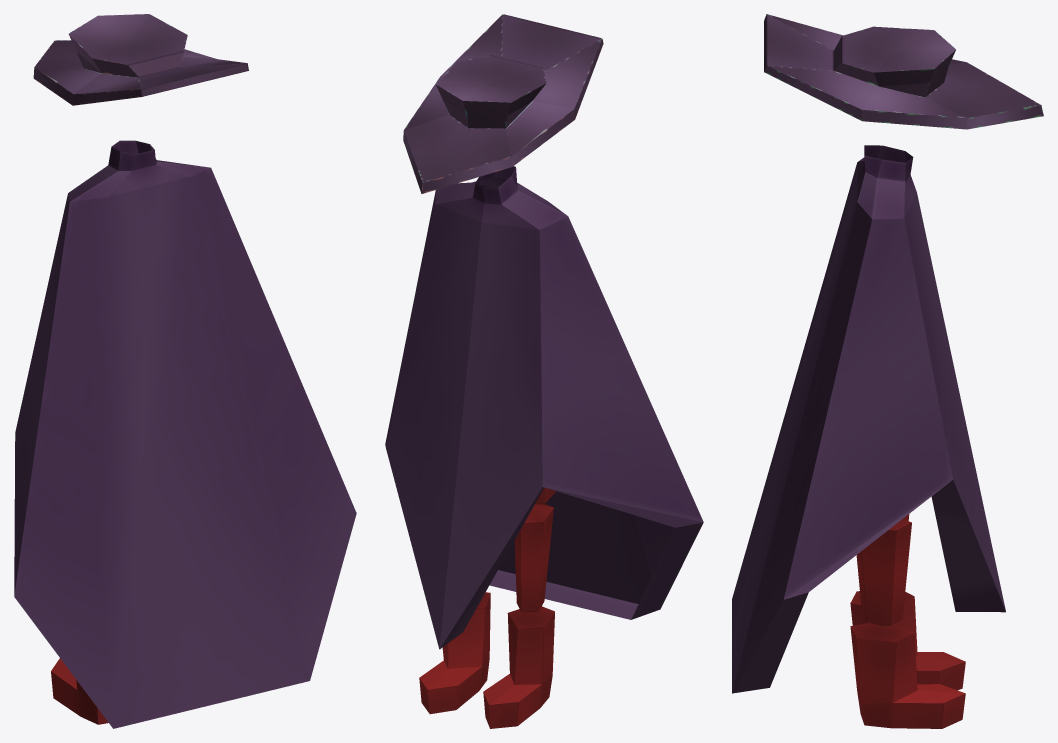
Rendered from insquisitor.fbx.
The picture shows the model from 3 angles, left to right: view 1: azimuth 30°, elevation 25°; view 2: azimuth 150°, elevation 25°; view 3: azimuth 270°, elevation 25°; orthographic projection. The views are drawn at different scales.
Parts seen in each view (by area): view 1: Torso_U, head, Leg2_L; view 2: Torso_U, head, Leg2_L, Leg2_R, Leg1_L; view 3: Torso_U, head, Leg2_R, Leg1_R, Leg2_L.
Boxes of the visible parts, bbox=[...] form: Torso_U: bbox=[14, 140, 356, 728]; head: bbox=[33, 14, 248, 105]; Leg2_L: bbox=[51, 658, 108, 724]; Torso_U: bbox=[385, 166, 703, 649]; head: bbox=[403, 14, 603, 193]; Leg2_L: bbox=[483, 606, 554, 728]; Leg2_R: bbox=[419, 592, 490, 714]; Leg1_L: bbox=[514, 503, 553, 612]; Torso_U: bbox=[732, 145, 1005, 693]; head: bbox=[764, 14, 1043, 129]; Leg2_R: bbox=[850, 623, 965, 728]; Leg1_R: bbox=[856, 519, 911, 626]; Leg2_L: bbox=[850, 591, 965, 690].
Size of the model in its own units: 125 by 235 by 99.86.
9 materials, 9 textured.
